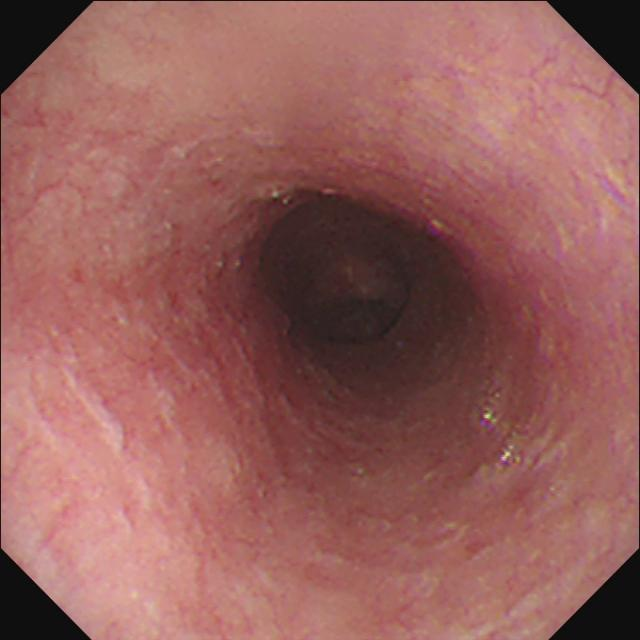E: (248, 185, 418, 352)
